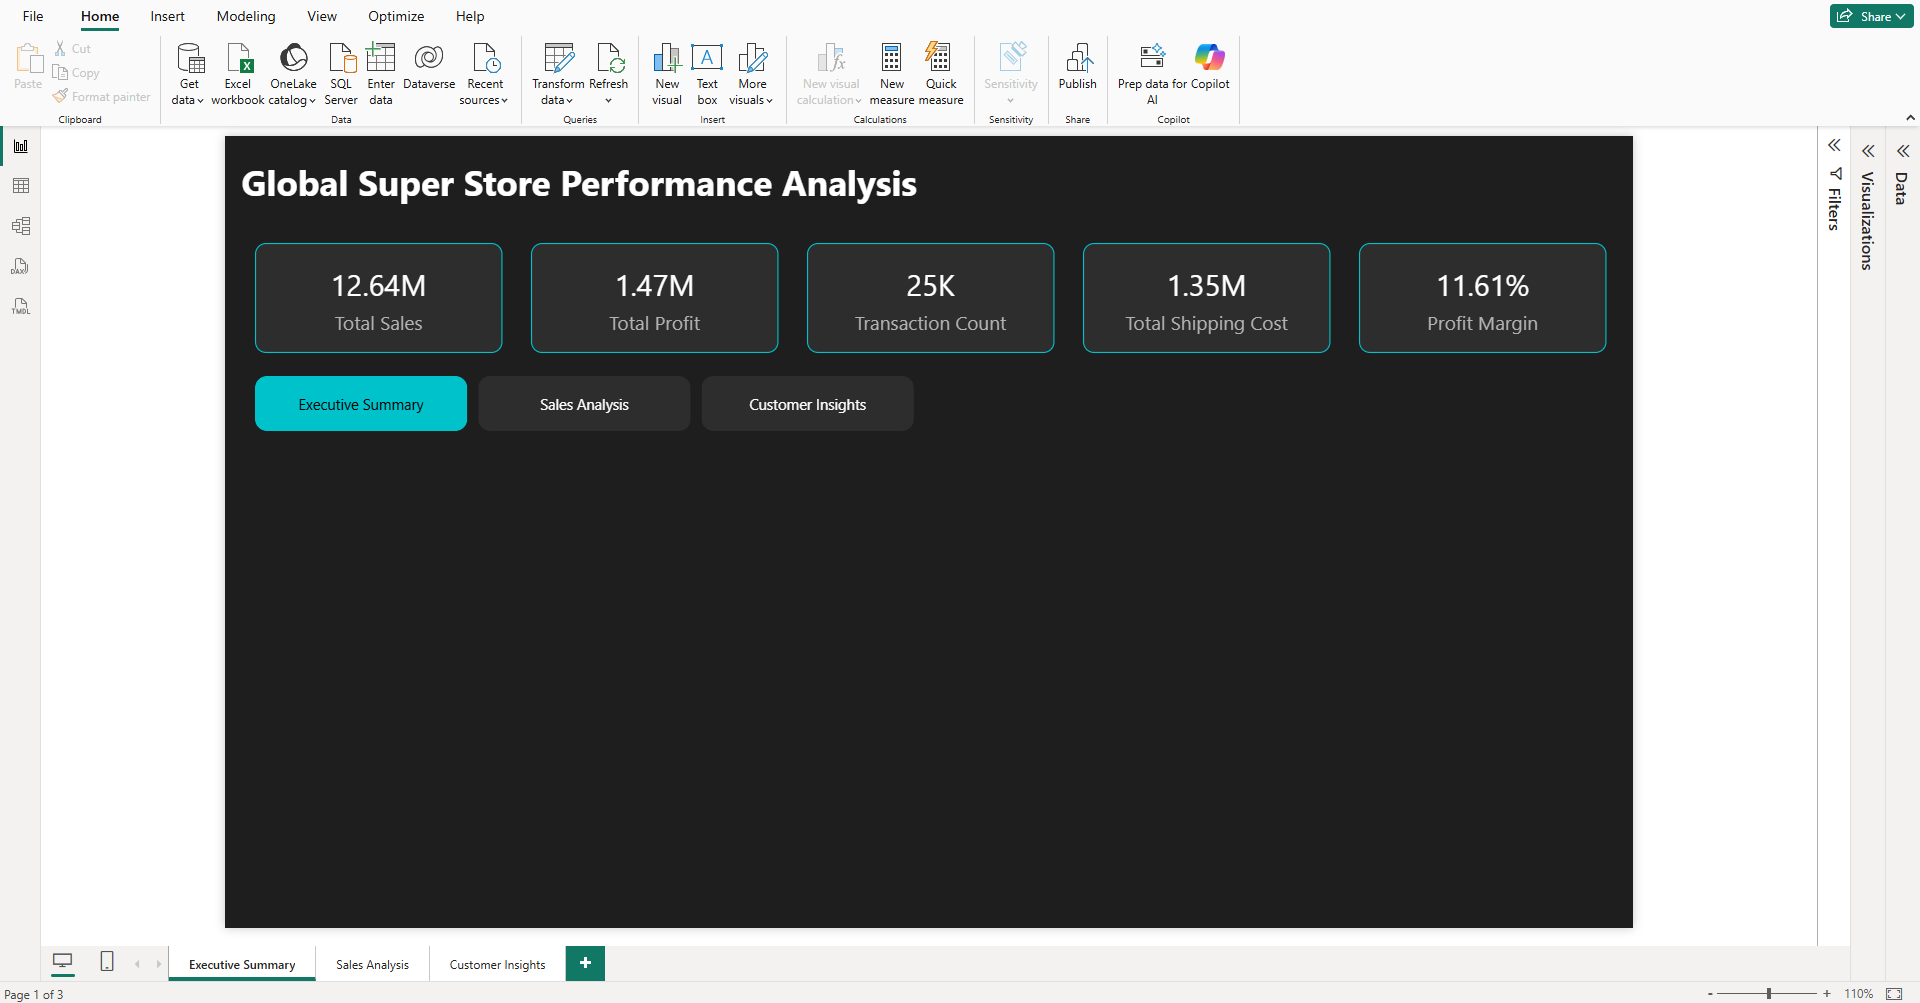

This screenshot's page, from the dashboard's own definition file:
{"tool":"powerbi","page":{"name":"Executive Summary","canvas":[1280,720],"ordinal":0},"visuals":[{"type":"textbox","box":[10,14.2,625,60],"z":0},{"type":"pageNavigator","box":[27.2,217.8,599.7,50],"z":1000},{"type":"card","fields":{"Values":["_Measures.Total Sales"]},"box":[27.2,97.5,225,100.1],"z":2000},{"type":"card","fields":{"Values":["_Measures.Total Profit"]},"box":[278.1,97.5,225,100.1],"z":3000},{"type":"card","fields":{"Values":["_Measures.Transaction Count"]},"box":[529,97.5,225,100.1],"z":4000},{"type":"card","fields":{"Values":["_Measures.Total Shipping Cost"]},"box":[779.9,97.5,225,100.1],"z":5000},{"type":"card","fields":{"Values":["_Measures.Profit Margin"]},"box":[1030.8,97.5,225,100.1],"z":6000}]}

Visuals, with their boxes on the page's 1280x720 design canvas (x1, y1, x2, y2). These are canvas units, not pixel positions in the 1920x1003 screenshot, which may show the page scaled, cropped or inside an application window:
textbox: (10, 14, 635, 74)
pageNavigator: (27, 218, 627, 268)
card - _Measures.Total Sales: (27, 98, 252, 198)
card - _Measures.Total Profit: (278, 98, 503, 198)
card - _Measures.Transaction Count: (529, 98, 754, 198)
card - _Measures.Total Shipping Cost: (780, 98, 1005, 198)
card - _Measures.Profit Margin: (1031, 98, 1256, 198)
